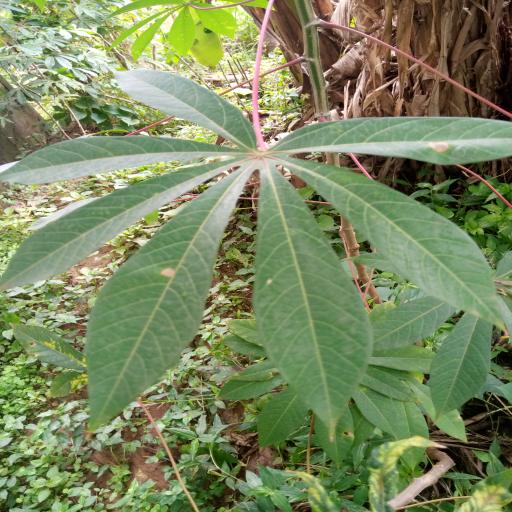Cassava_Brown_Leaf_Spot: (5, 62, 512, 444)
